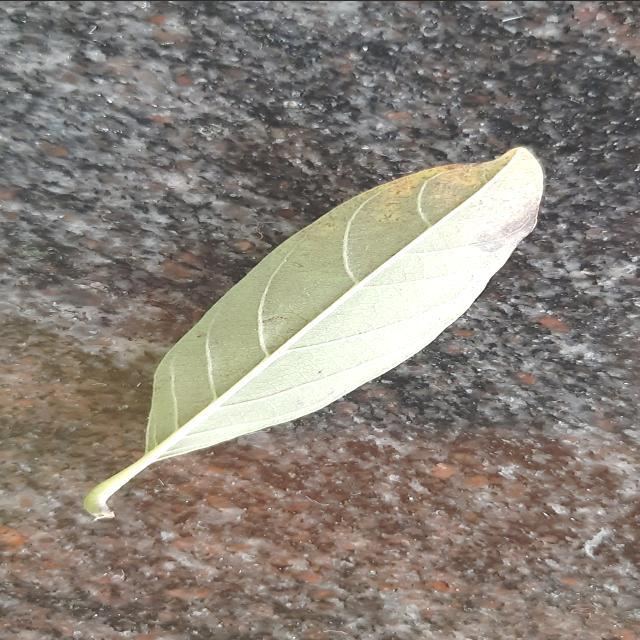leaf: (83, 144, 545, 521)
